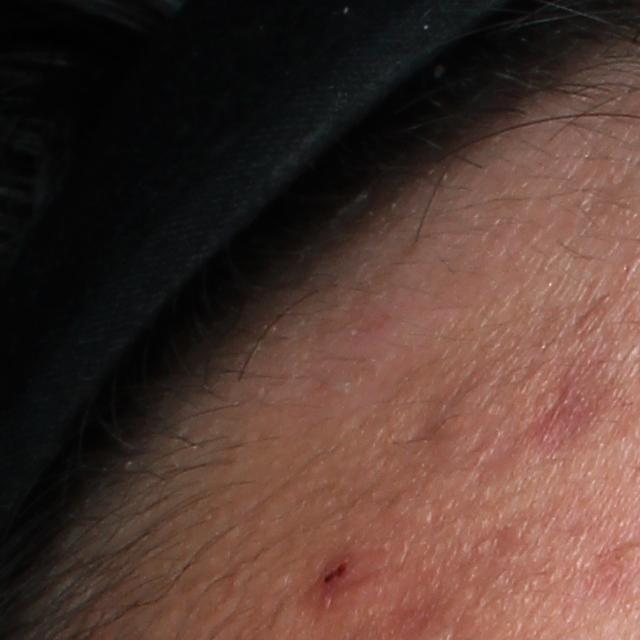papule: (314, 552, 376, 601)
